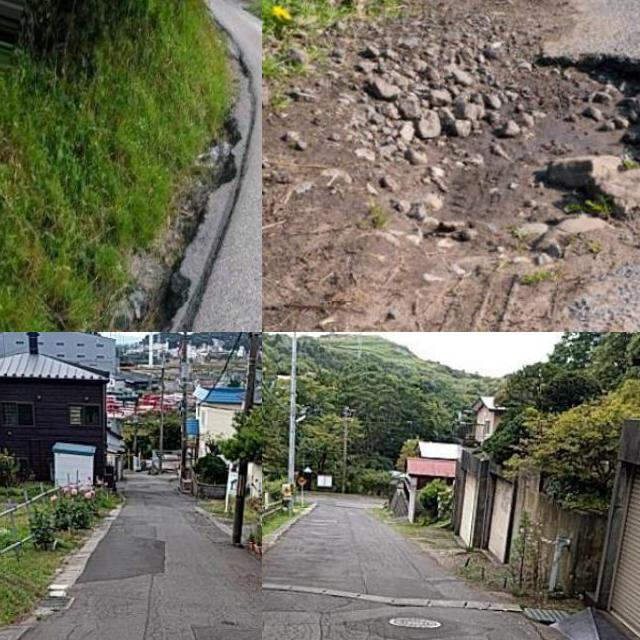Pinggir: (458, 46, 640, 326), (102, 69, 262, 332)
Sambungan: (69, 534, 172, 586), (189, 622, 262, 640)
